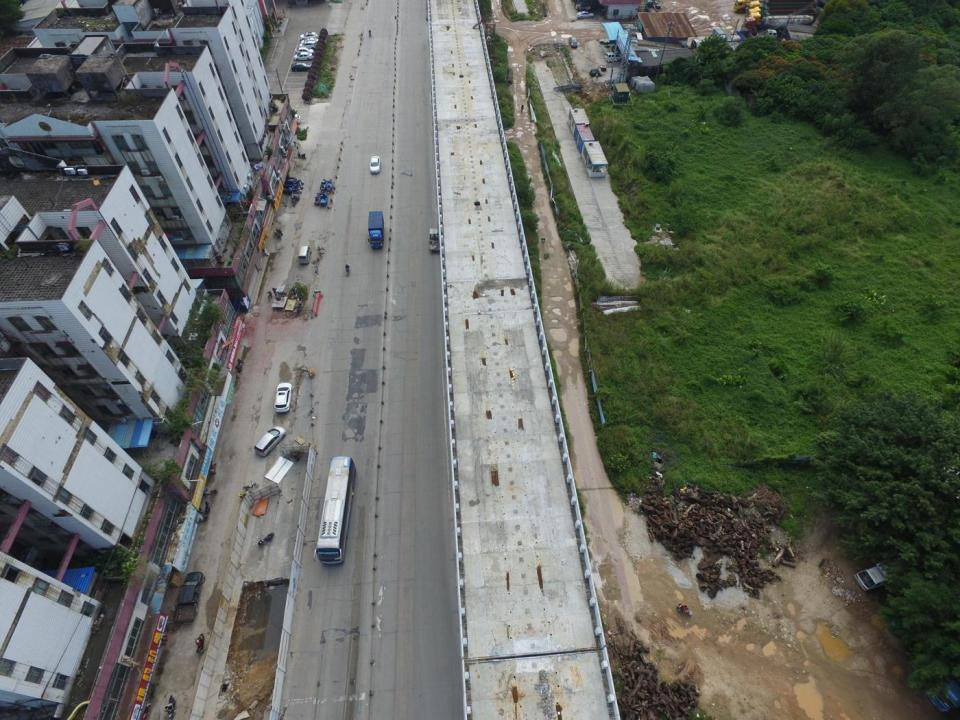bus: (313, 455, 356, 568)
car: (254, 425, 286, 457), (273, 382, 293, 413), (281, 113, 301, 124), (291, 62, 311, 72), (369, 156, 380, 174), (294, 52, 312, 61), (300, 32, 318, 40), (298, 41, 317, 48), (296, 47, 314, 54), (577, 11, 594, 18), (301, 38, 319, 44), (569, 36, 578, 48)
truck: (855, 551, 924, 591), (173, 569, 203, 623), (740, 14, 814, 30), (747, 9, 817, 25), (747, 4, 816, 19), (747, 0, 818, 14), (732, 0, 802, 12), (367, 210, 387, 250), (428, 228, 441, 251)
van: (298, 246, 312, 266), (606, 52, 620, 60), (766, 30, 778, 37)
